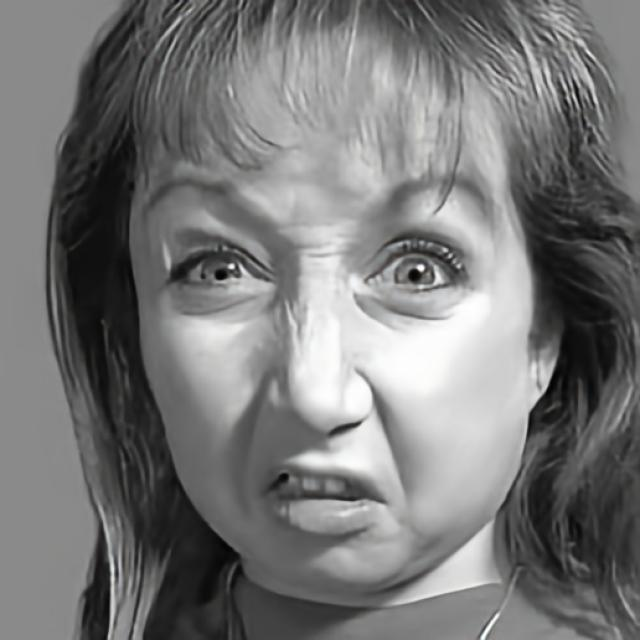disgust: (128, 2, 535, 599)
